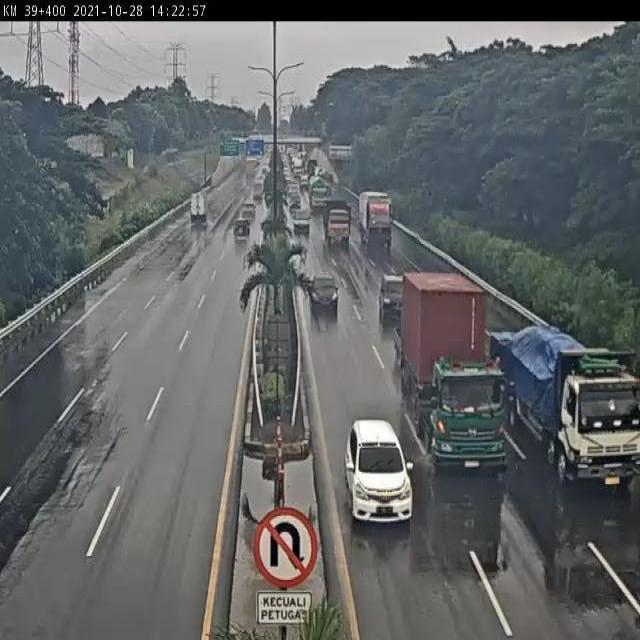truck-l-: (358, 192, 394, 244)
truck-m-: (322, 196, 353, 244)
truck-xl-: (496, 330, 640, 482), (399, 266, 506, 466)
